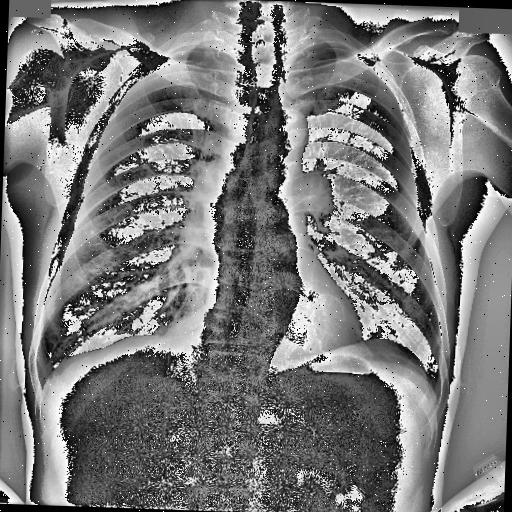0- Aortic enlargement: (262, 108, 312, 154)
11- Pleural thickening: (152, 38, 201, 72)
8- Nodule-Mass: (294, 173, 332, 210), (300, 172, 334, 212)
9- Other lesion: (32, 326, 206, 396), (312, 338, 431, 386), (56, 331, 167, 366), (294, 173, 332, 210)
